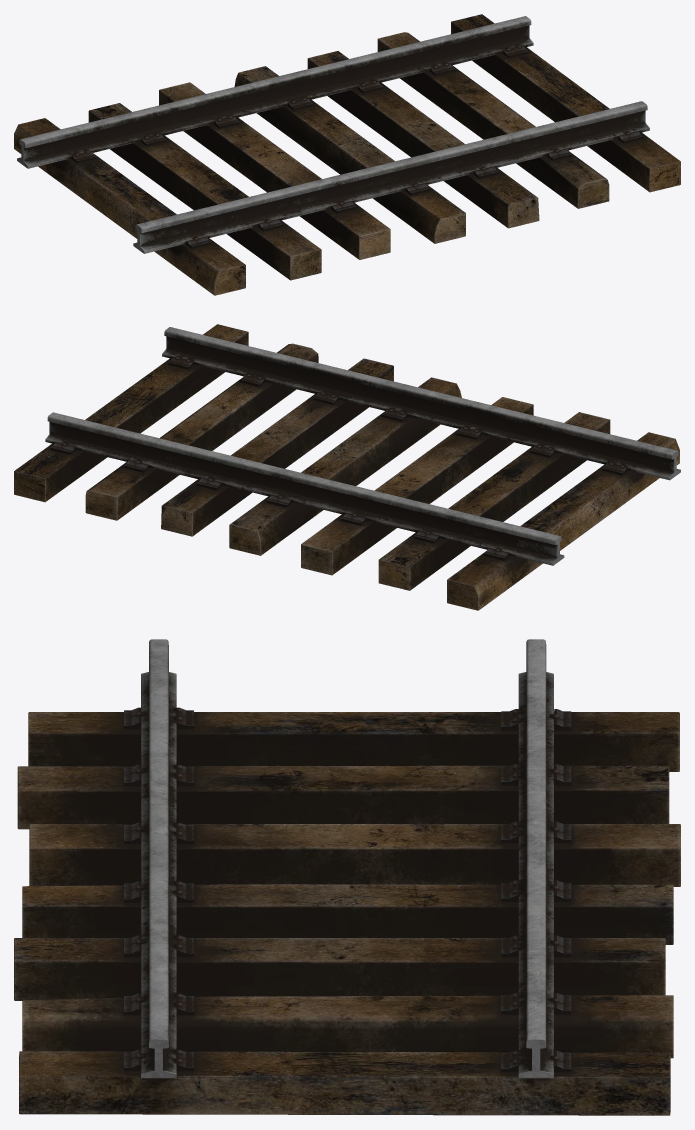
Rendered from railway track.glb.
The picture shows the model from 3 angles, top to bottom: view 1: azimuth 30°, elevation 25°; view 2: azimuth 150°, elevation 25°; view 3: azimuth 270°, elevation 25°; orthographic projection. The views are drawn at different scales.
Visible parts, largest first — view 1: railroad_gav_railroad_gav_0; view 2: railroad_gav_railroad_gav_0; view 3: railroad_gav_railroad_gav_0.
Boxes of the visible parts, bbox=[...] form: railroad_gav_railroad_gav_0: bbox=[14, 14, 680, 295]; railroad_gav_railroad_gav_0: bbox=[14, 324, 680, 610]; railroad_gav_railroad_gav_0: bbox=[14, 639, 680, 1115].
Bounding box in the file's own units: 4 × 0.3716 × 2.82.
Materials: 1 (1 with a texture image).
